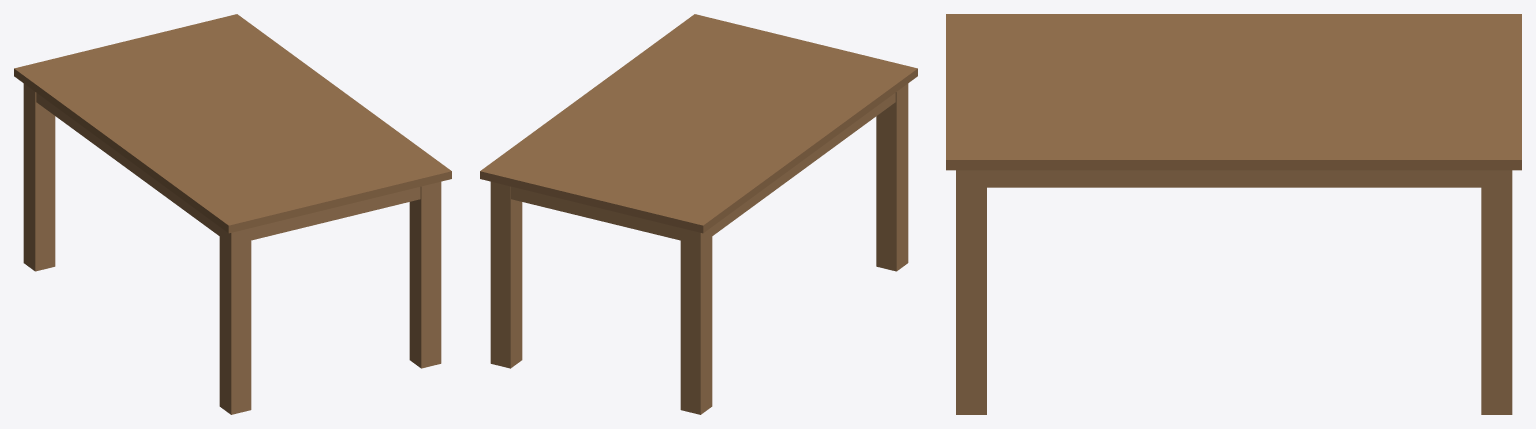
File: kitchen_table_2.FBX
3 views of the same model, side by side, from view 1: azimuth 30°, elevation 25°; view 2: azimuth 150°, elevation 25°; view 3: azimuth 270°, elevation 25° (orthographic). The views are drawn at different scales.
Visible parts, largest first — view 1: kitchen_table_2; view 2: kitchen_table_2; view 3: kitchen_table_2.
Part boxes in pixels (x1=…): kitchen_table_2: x1=14, y1=14, x2=451, y2=414; kitchen_table_2: x1=480, y1=14, x2=917, y2=414; kitchen_table_2: x1=946, y1=14, x2=1521, y2=414.
Size of the model in its own units: 0.9233 by 0.7649 by 1.54.
